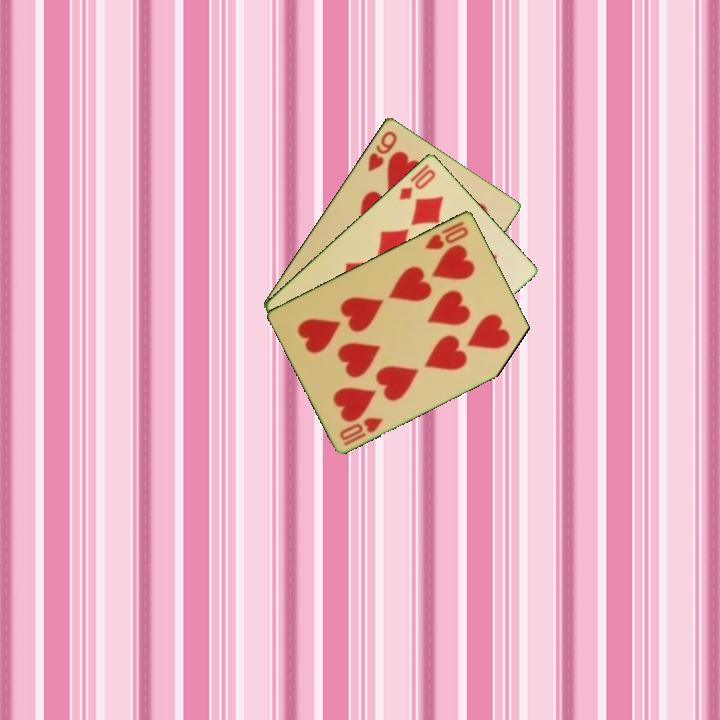10d: (396, 160, 439, 203)
10h: (336, 413, 386, 448), (421, 222, 472, 252)
9h: (364, 127, 400, 174)
